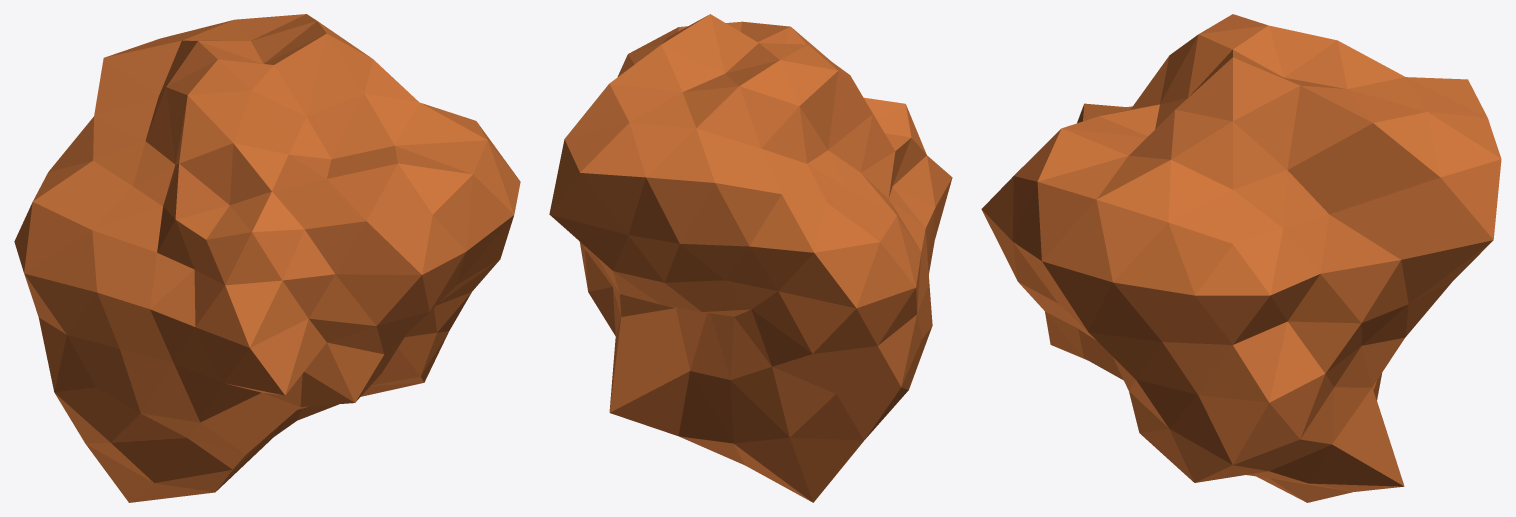
The model's file is asteroid1.obj.
3 views of the same model, side by side, from view 1: azimuth 30°, elevation 25°; view 2: azimuth 150°, elevation 25°; view 3: azimuth 270°, elevation 25° (orthographic). The views are drawn at different scales.
Parts seen in each view (by area): view 1: Icosphere; view 2: Icosphere; view 3: Icosphere.
Boxes of the visible parts, box(x1,y1,x2,y2) form: Icosphere: box(14, 14, 520, 502); Icosphere: box(549, 14, 952, 502); Icosphere: box(981, 14, 1501, 502).
Bounding box in the file's own units: 2.71 × 2.99 × 2.82.
